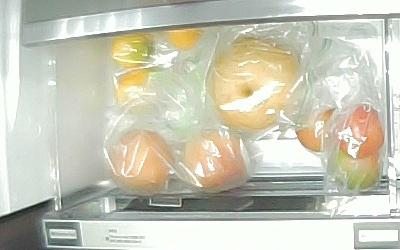peach_vinyl: (182, 126, 247, 195), (107, 129, 173, 196)
pear_vinyl: (206, 35, 300, 130)
tangerine_vinyl: (110, 31, 155, 68), (114, 69, 151, 114), (163, 28, 205, 52)
tomato_vinyl: (333, 103, 385, 160), (327, 147, 379, 192), (295, 108, 335, 153)
